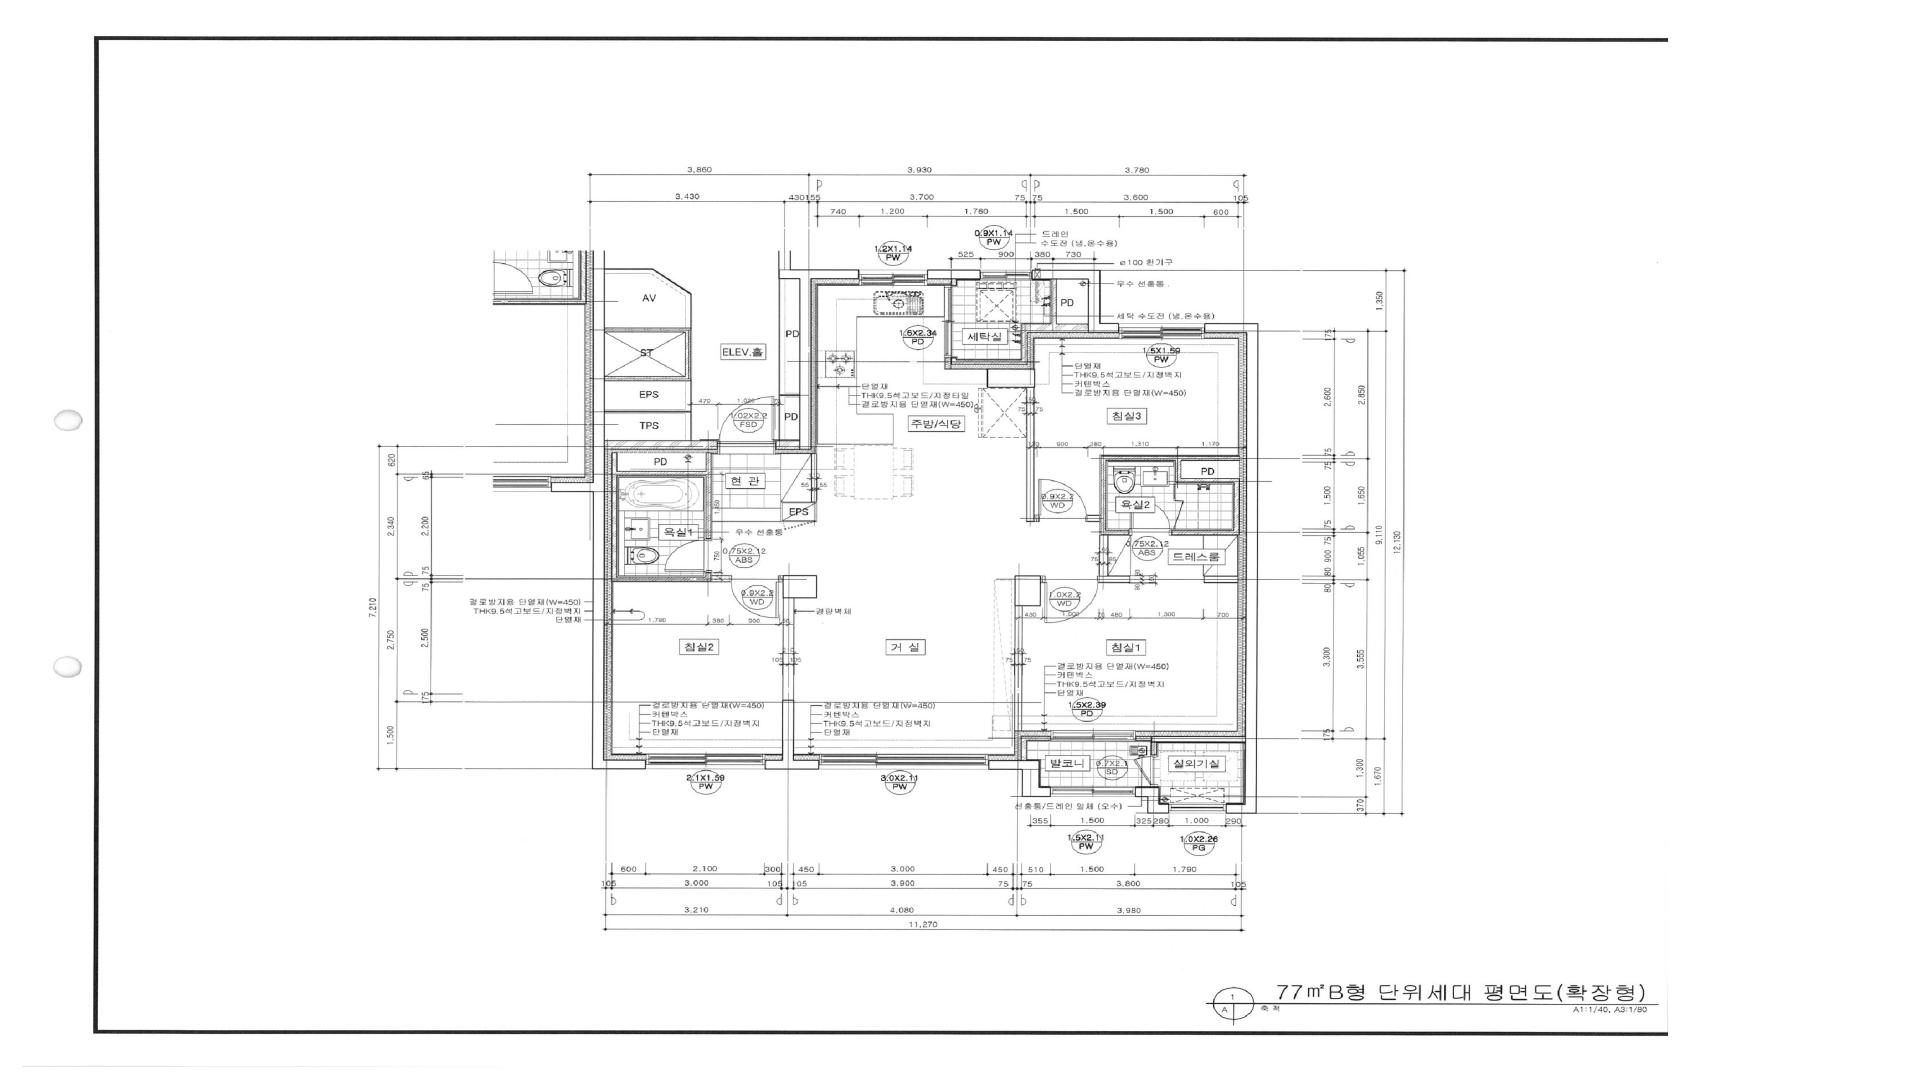door: (717, 396, 775, 444), (1042, 576, 1100, 624), (1036, 479, 1089, 522), (729, 575, 781, 618), (663, 539, 712, 572), (1129, 505, 1172, 535), (1134, 756, 1158, 786), (944, 285, 952, 357), (1174, 500, 1184, 529)
wall: (592, 251, 605, 769), (1245, 323, 1258, 803), (799, 280, 811, 450), (1026, 388, 1035, 522), (782, 599, 794, 700), (651, 269, 692, 297), (604, 440, 717, 450), (1014, 607, 1022, 731), (1101, 455, 1240, 462), (986, 369, 1035, 388), (616, 572, 711, 582), (611, 452, 617, 582), (1014, 575, 1040, 607), (783, 575, 818, 599), (778, 280, 785, 396), (782, 700, 794, 760), (1088, 270, 1101, 323), (799, 269, 860, 280), (1151, 736, 1245, 742), (1022, 323, 1088, 332), (765, 760, 819, 770), (927, 269, 981, 280), (989, 760, 1040, 770), (1022, 770, 1040, 798), (1040, 269, 1088, 280), (951, 357, 1022, 364), (617, 471, 705, 476), (705, 452, 711, 539), (1204, 323, 1246, 334), (604, 409, 686, 414), (1098, 535, 1109, 576), (605, 327, 686, 332), (604, 376, 684, 381), (604, 760, 646, 769), (1101, 460, 1106, 534), (684, 327, 691, 381), (1233, 479, 1240, 530), (811, 454, 818, 502), (1226, 803, 1257, 814), (1088, 323, 1118, 334), (778, 396, 785, 440), (1051, 280, 1058, 323), (1135, 786, 1159, 798), (1171, 530, 1240, 534), (605, 269, 654, 274), (1130, 575, 1156, 584), (684, 411, 692, 440), (1175, 479, 1233, 483), (1204, 576, 1238, 583), (778, 269, 799, 280), (775, 440, 799, 450), (686, 294, 692, 327), (1147, 796, 1159, 814), (684, 381, 691, 411), (1100, 576, 1130, 583), (1022, 332, 1027, 364), (1021, 736, 1051, 741), (711, 575, 729, 582), (1175, 460, 1182, 479), (1106, 530, 1129, 535), (1040, 786, 1051, 796), (1159, 803, 1170, 814), (1150, 742, 1158, 756), (1021, 741, 1026, 760), (781, 501, 816, 504), (1088, 514, 1100, 522), (1135, 736, 1151, 741), (785, 393, 799, 397), (1031, 270, 1035, 281), (815, 504, 816, 522), (781, 504, 782, 522), (781, 575, 783, 583), (1034, 514, 1036, 522), (952, 280, 956, 285), (1040, 576, 1043, 583)
window: (819, 754, 989, 769), (646, 753, 765, 769), (1118, 323, 1204, 339), (860, 270, 927, 286), (1051, 731, 1135, 741), (1051, 787, 1135, 796), (1168, 803, 1226, 814), (981, 270, 1033, 280), (1035, 269, 1040, 281)
